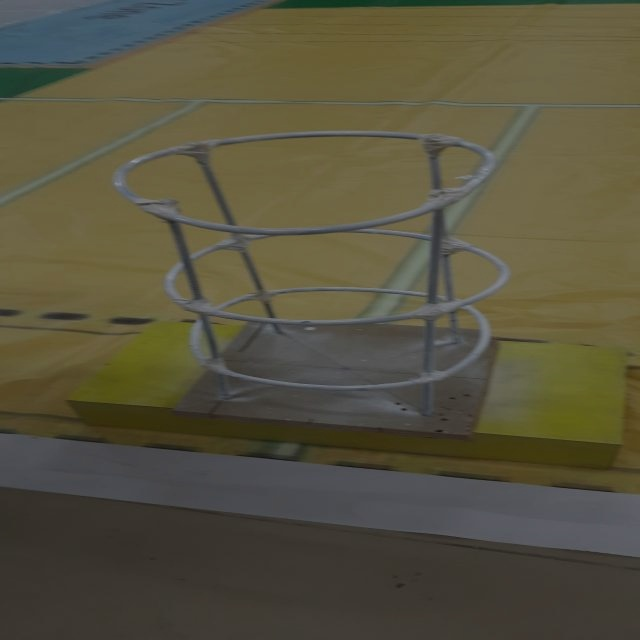silo: (100, 121, 544, 452)
